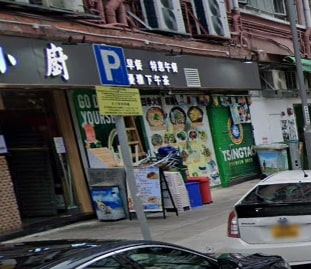Parking: (93, 44, 129, 88)
